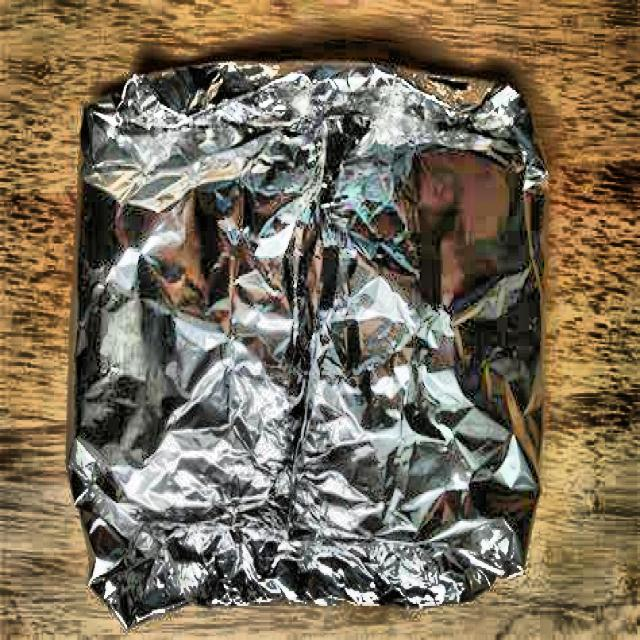Foil: (68, 54, 548, 633)
